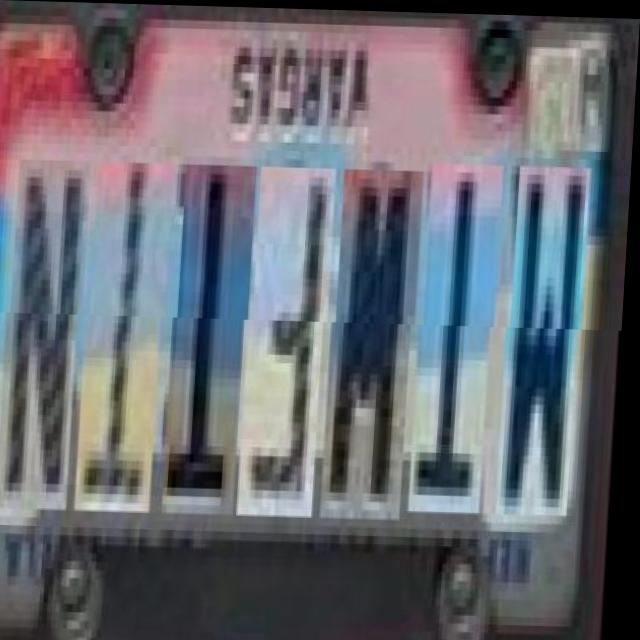f: (243, 165, 335, 515)
m: (502, 163, 590, 513)
n: (1, 160, 89, 509)
t: (81, 161, 172, 511), (413, 161, 501, 511), (168, 163, 255, 513)
w: (326, 167, 422, 517)
